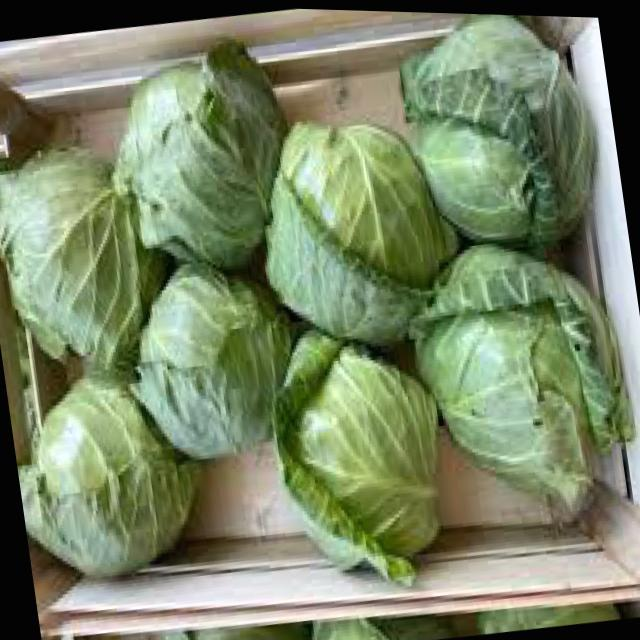Cabbage: (399, 215, 640, 534), (245, 97, 471, 362), (259, 311, 463, 604), (385, 9, 612, 266), (94, 22, 308, 289), (6, 353, 214, 590), (0, 129, 189, 380), (112, 246, 308, 468)
